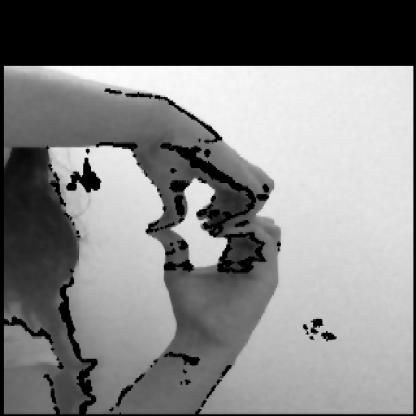heart: (124, 92, 291, 353)
